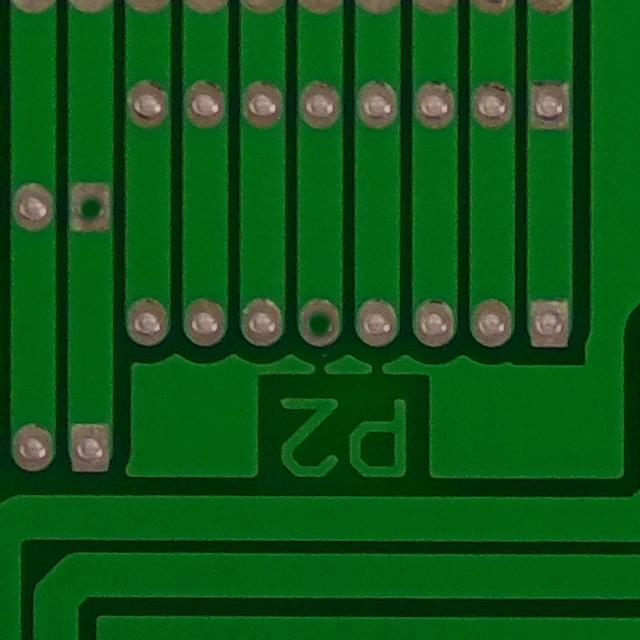missing_hole: (293, 287, 347, 354)
